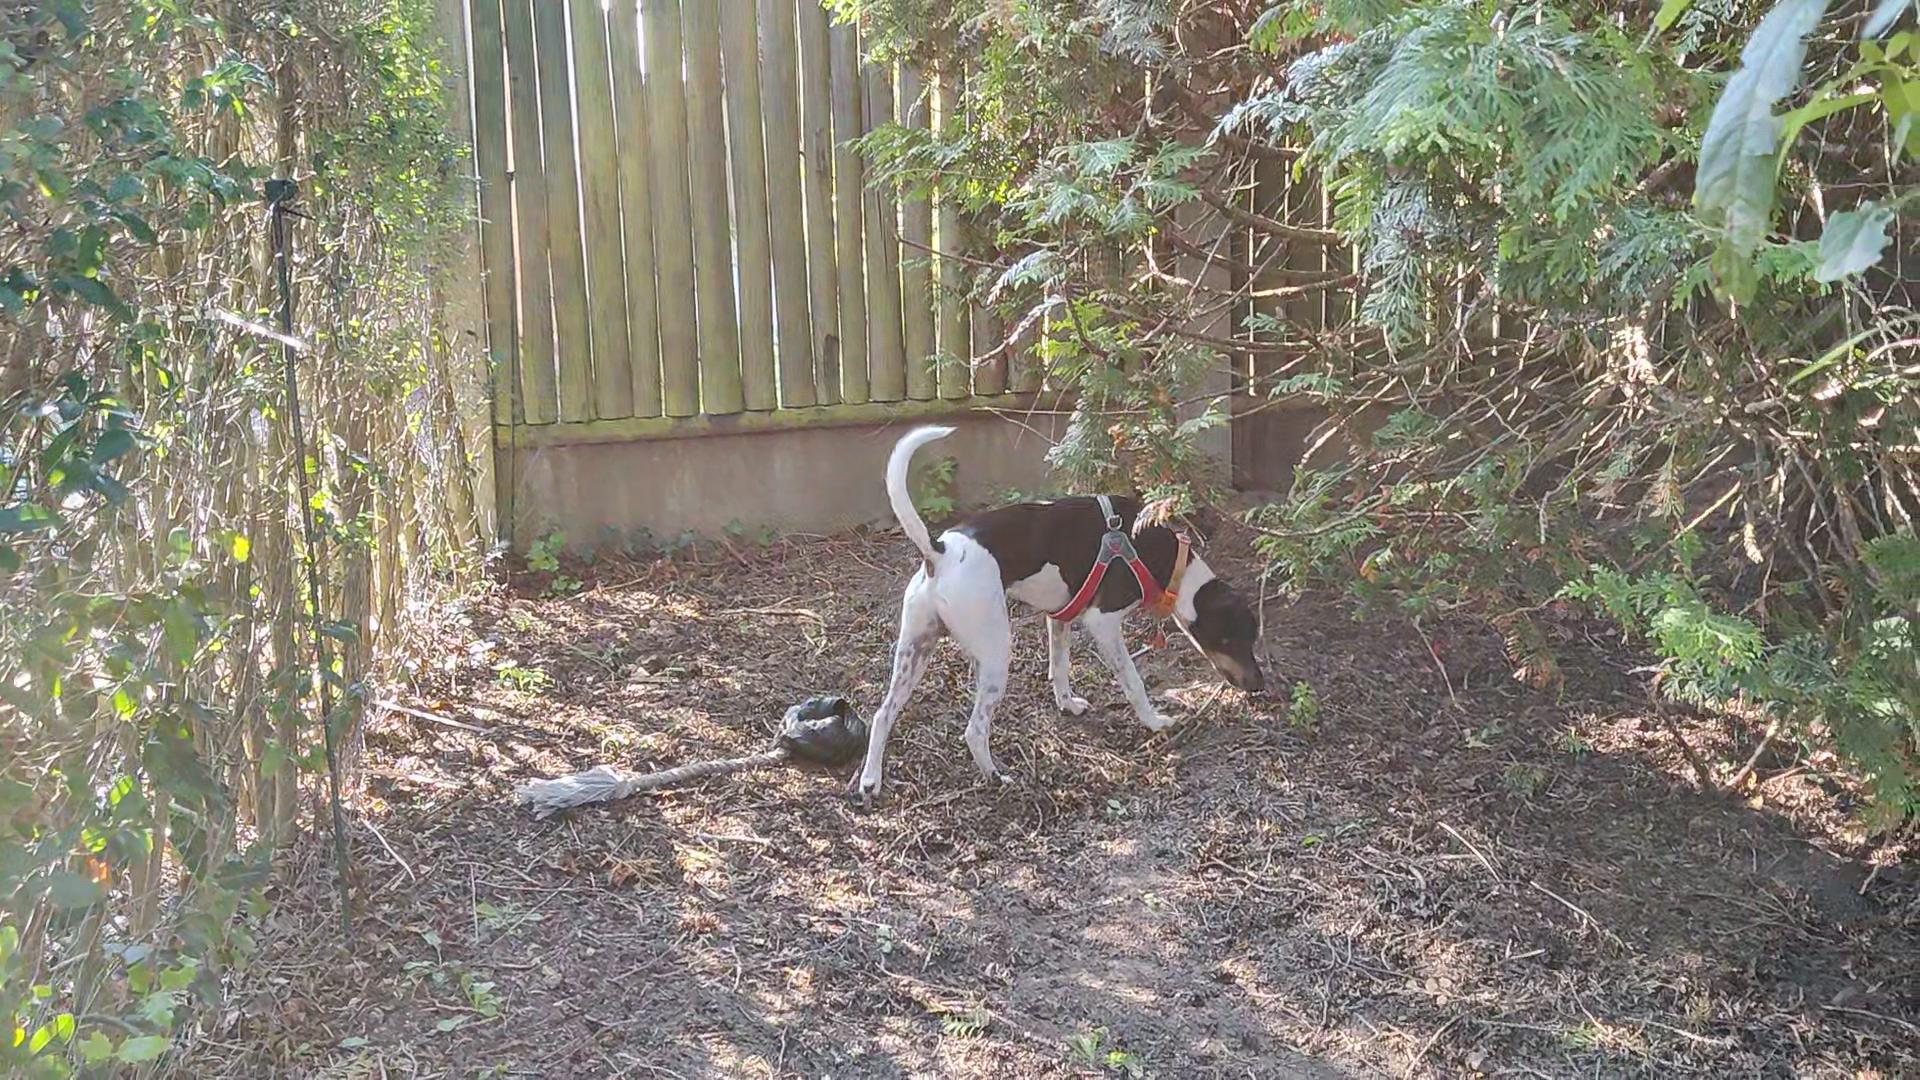Dog: (847, 411, 1271, 806)
